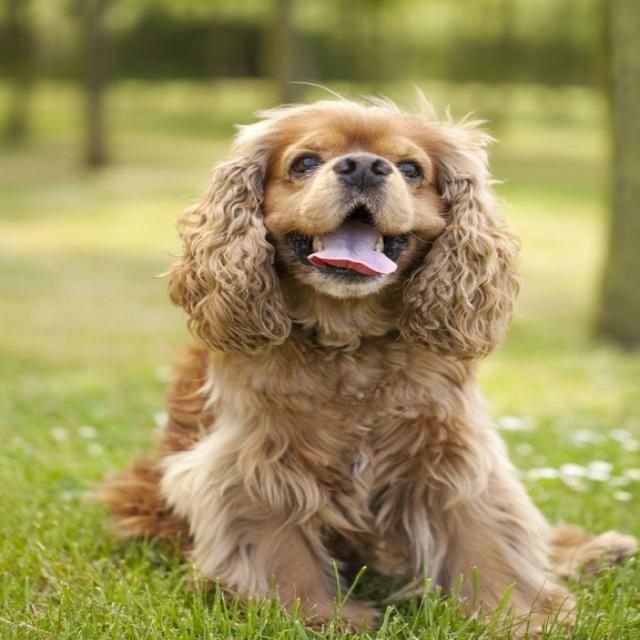dogs: (103, 101, 638, 640)
